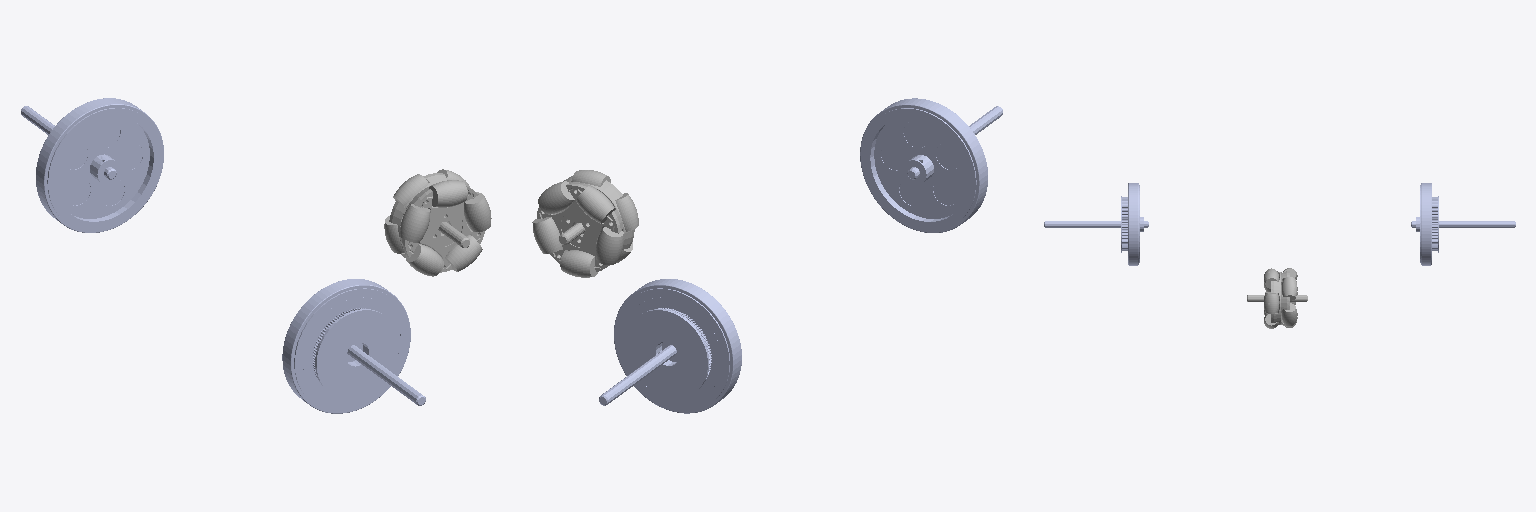
The robot description file, URDF, robot "dog1":
<robot
  name="dog1">
  <link
    name="base_link">
    <inertial>
      <origin
        xyz="0.086236 -0.00053701 0.022928"
        rpy="0 0 0" />
      <mass
        value="1.1657" />
      <inertia
        ixx="0.010059"
        ixy="-3.9949E-06"
        ixz="7.2281E-06"
        iyy="0.0071159"
        iyz="-3.3476E-06"
        izz="0.014078" />
    </inertial>
    <visual>
      <origin
        xyz="0 0 0"
        rpy="0 0 0" />
      <geometry>
        <mesh
          filename="package://dog1/meshes/base_link.STL" />
      </geometry>
      <material
        name="">
        <color
          rgba="0.79216 0.81961 0.93333 1" />
      </material>
    </visual>
    <collision>
      <origin
        xyz="0 0 0"
        rpy="0 0 0" />
      <geometry>
        <mesh
          filename="package://dog1/meshes/base_link.STL" />
      </geometry>
    </collision>
  </link>
  <link
    name="L_Link">
    <inertial>
      <origin
        xyz="2.0791E-06 8.5902E-07 -0.018047"
        rpy="0 0 0" />
      <mass
        value="0.1021" />
      <inertia
        ixx="6.9455E-05"
        ixy="5.4233E-10"
        ixz="-3.3428E-09"
        iyy="6.9454E-05"
        iyz="-1.3811E-09"
        izz="0.00010157" />
    </inertial>
    <visual>
      <origin
        xyz="0 0 0"
        rpy="0 0 0" />
      <geometry>
        <mesh
          filename="package://dog1/meshes/L_Link.STL" />
      </geometry>
      <material
        name="">
        <color
          rgba="0.79216 0.81961 0.93333 1" />
      </material>
    </visual>
    <collision>
      <origin
        xyz="0 0 0"
        rpy="0 0 0" />
      <geometry>
        <mesh
          filename="package://dog1/meshes/L_Link.STL" />
      </geometry>
    </collision>
  </link>
  <joint
    name="L_joint"
    type="continuous">
    <origin
      xyz="0 0.1566 0"
      rpy="1.5708 1.5708 0" />
    <parent
      link="base_link" />
    <child
      link="L_Link" />
    <axis
      xyz="0 0 1" />
    <dynamics
      friction="10" />
  </joint>
  <link
    name="R_Link">
    <inertial>
      <origin
        xyz="2.0791E-06 8.5899E-07 0.018047"
        rpy="0 0 0" />
      <mass
        value="0.1021" />
      <inertia
        ixx="6.9455E-05"
        ixy="5.4232E-10"
        ixz="3.3428E-09"
        iyy="6.9454E-05"
        iyz="1.3811E-09"
        izz="0.00010157" />
    </inertial>
    <visual>
      <origin
        xyz="0 0 0"
        rpy="0 0 0" />
      <geometry>
        <mesh
          filename="package://dog1/meshes/R_Link.STL" />
      </geometry>
      <material
        name="">
        <color
          rgba="0.79216 0.81961 0.93333 1" />
      </material>
    </visual>
    <collision>
      <origin
        xyz="0 0 0"
        rpy="0 0 0" />
      <geometry>
        <mesh
          filename="package://dog1/meshes/R_Link.STL" />
      </geometry>
    </collision>
  </link>
  <joint
    name="R_joint"
    type="continuous">
    <origin
      xyz="0 -0.1566 0"
      rpy="1.5708 1.5708 0" />
    <parent
      link="base_link" />
    <child
      link="R_Link" />
    <axis
      xyz="0 0 1" />
    <dynamics
      friction="10" />
  </joint>
  <link
    name="free_Link">
    <inertial>
      <origin
        xyz="5.8889E-12 3.2808E-11 -0.00055748"
        rpy="0 0 0" />
      <mass
        value="0.090747" />
      <inertia
        ixx="3.5132E-05"
        ixy="-7.7199E-16"
        ixz="1.9863E-14"
        iyy="3.5201E-05"
        iyz="-5.3011E-14"
        izz="5.1852E-05" />
    </inertial>
    <visual>
      <origin
        xyz="0 0 0"
        rpy="0 0 0" />
      <geometry>
        <mesh
          filename="package://dog1/meshes/free_Link.STL" />
      </geometry>
      <material
        name="">
        <color
          rgba="0.75294 0.75294 0.75294 1" />
      </material>
    </visual>
    <collision>
      <origin
        xyz="0 0 0"
        rpy="0 0 0" />
      <geometry>
        <mesh
          filename="package://dog1/meshes/free_Link.STL" />
      </geometry>
    </collision>
  </link>
  <joint
    name="free_joint"
    type="fixed">
    <origin
      xyz="0.17 0 -0.015"
      rpy="1.5708 0.063602 -1.0513E-16" />
    <parent
      link="base_link" />
    <child
      link="free_Link" />
    <axis
      xyz="0 0 0" />
    <dynamics
      friction="0" />
  </joint>
</robot>

--- Render facts (derived) ---
Views: 3 orthographic renders of the robot side by side, from view 1: azimuth 30°, elevation 25°; view 2: azimuth 150°, elevation 25°; view 3: azimuth 270°, elevation 25°.
Robot: dog1 — 4 links, 3 joints (2 continuous, 1 fixed); root link base_link; default pose: all joints at 0.
Links seen in each view (by area): view 1: L_Link, R_Link, free_Link; view 2: L_Link, R_Link, free_Link; view 3: free_Link, L_Link, R_Link.
Link boxes in pixels (x1,y1,x2,y2): L_Link: (21, 98, 163, 232); R_Link: (282, 279, 425, 413); free_Link: (384, 169, 491, 276); L_Link: (599, 279, 741, 413); R_Link: (860, 98, 1002, 232); free_Link: (532, 170, 638, 277); free_Link: (1247, 268, 1307, 328); L_Link: (1411, 183, 1515, 265); R_Link: (1044, 183, 1148, 265).
Bounding box of the posed robot: 0.2525 × 0.5432 × 0.0975 m (x, y, z).
Meshes: 4 distinct files referenced, 3 mesh visuals loaded (3 binary STL); not drawn: 1 (reference not matched to a file when rendering).